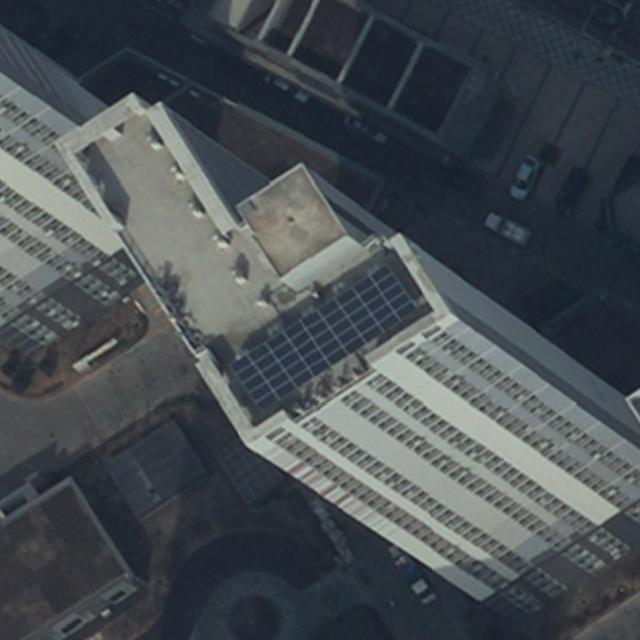panel: (224, 262, 418, 412)
